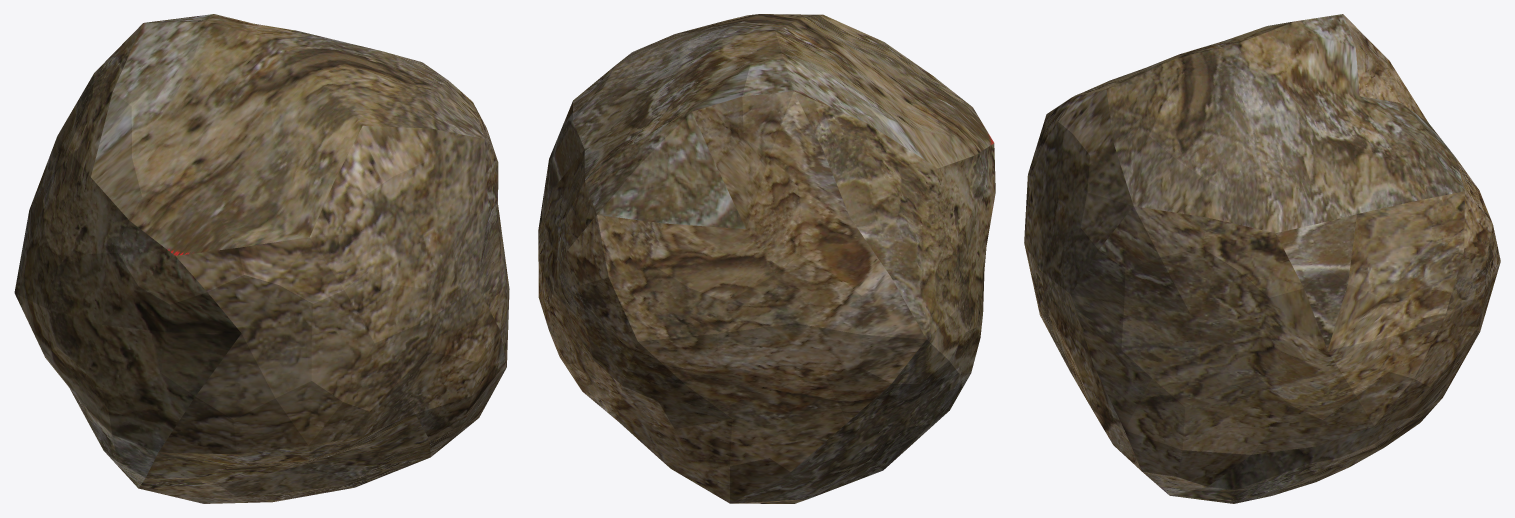
File: rock.fbx
3 views of the same model, side by side, from view 1: azimuth 30°, elevation 25°; view 2: azimuth 150°, elevation 25°; view 3: azimuth 270°, elevation 25° (orthographic). The views are drawn at different scales.
Visible parts, largest first — view 1: Icosphere; view 2: Icosphere; view 3: Icosphere.
Boxes of the visible parts, <box> form: Icosphere: <box>14,14,509,503</box>; Icosphere: <box>538,14,995,503</box>; Icosphere: <box>1024,14,1500,503</box>.
Bounding box in the file's own units: 1.85 × 2 × 1.93.
